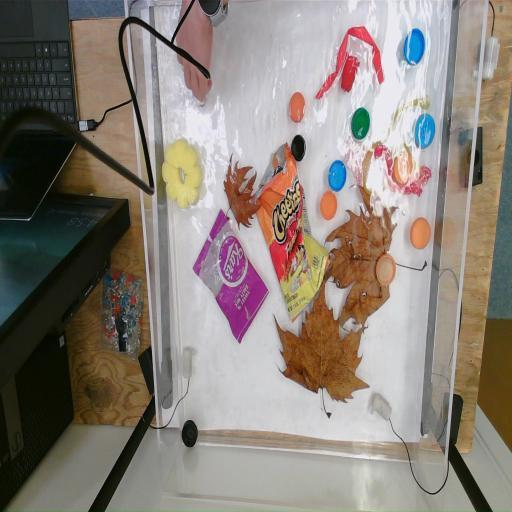Bottle Cap: (402, 28, 426, 66), (392, 148, 414, 186), (414, 113, 436, 150), (376, 252, 398, 288), (410, 216, 432, 250), (350, 107, 371, 142), (179, 419, 201, 449), (328, 159, 347, 192), (288, 92, 306, 124), (320, 190, 338, 221), (290, 134, 307, 162)
Cone Cap: (342, 48, 360, 90)
Leaf: (320, 183, 396, 334), (278, 286, 366, 412), (222, 154, 262, 232)
Netting: (373, 142, 432, 196), (345, 140, 372, 188)
Plastic Bag: (251, 140, 332, 320), (192, 208, 270, 343)
Plastic Strand: (316, 25, 384, 98), (371, 95, 431, 146)
Sponge: (160, 138, 204, 208)
